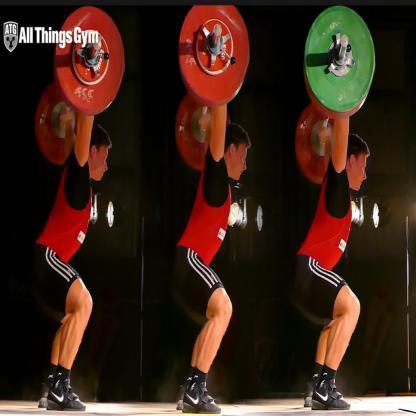barbell: (294, 5, 378, 184), (35, 5, 127, 165), (177, 2, 250, 172)
